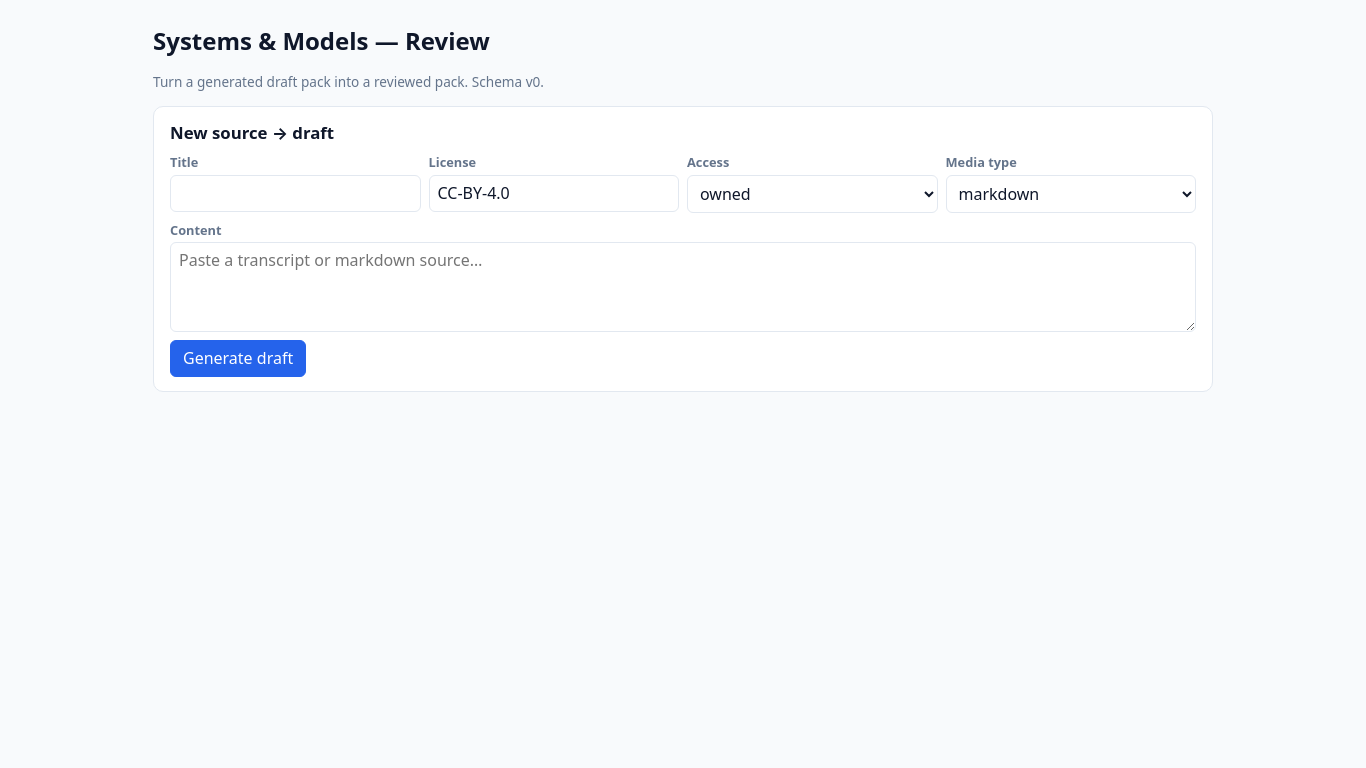
it: reviewed save › success (201) shows a confirmation banner
The image size is (1366, 768).
Type "Learning" into the field labelled "Title" at (295, 194), box [170,175,420,212]
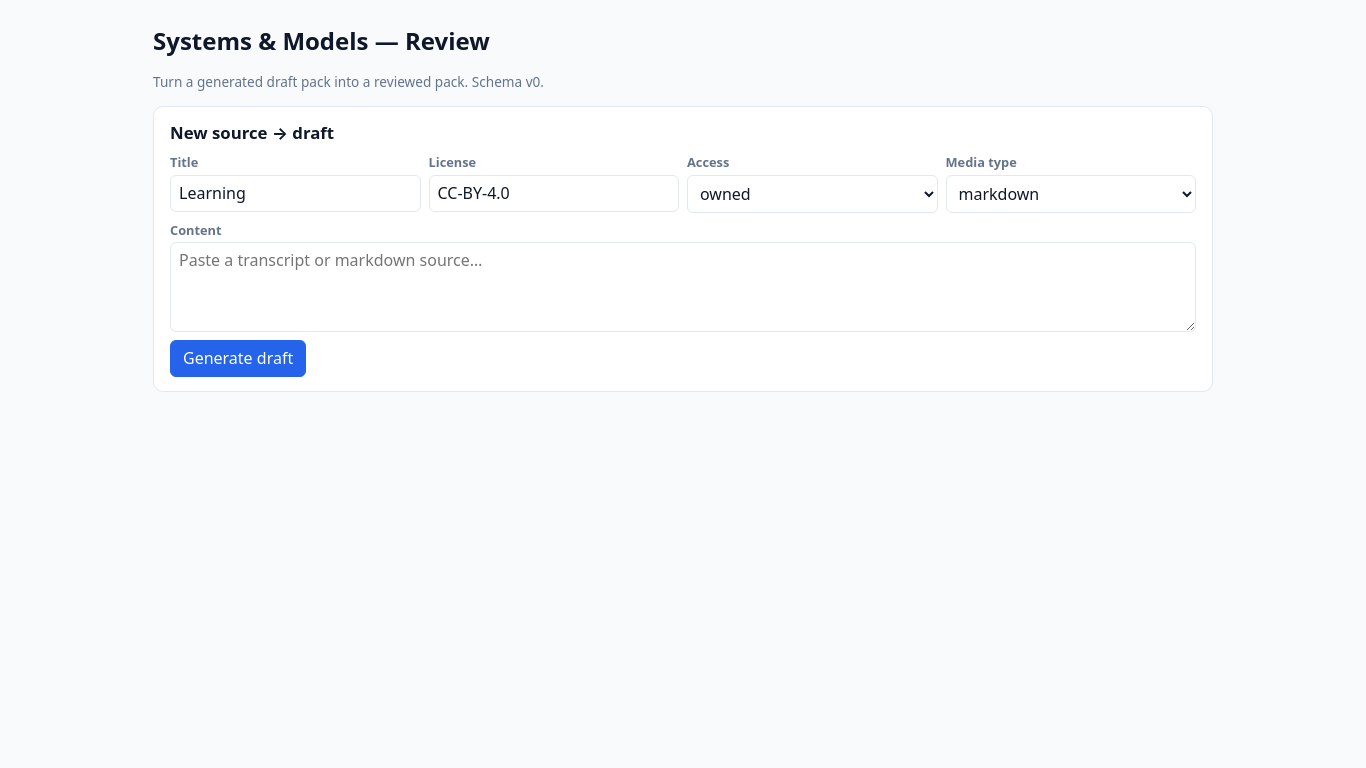
Type "spacing improves retention. memory decays over time." into the text box labelled "Content" at (683, 287), box [170,242,1196,332]
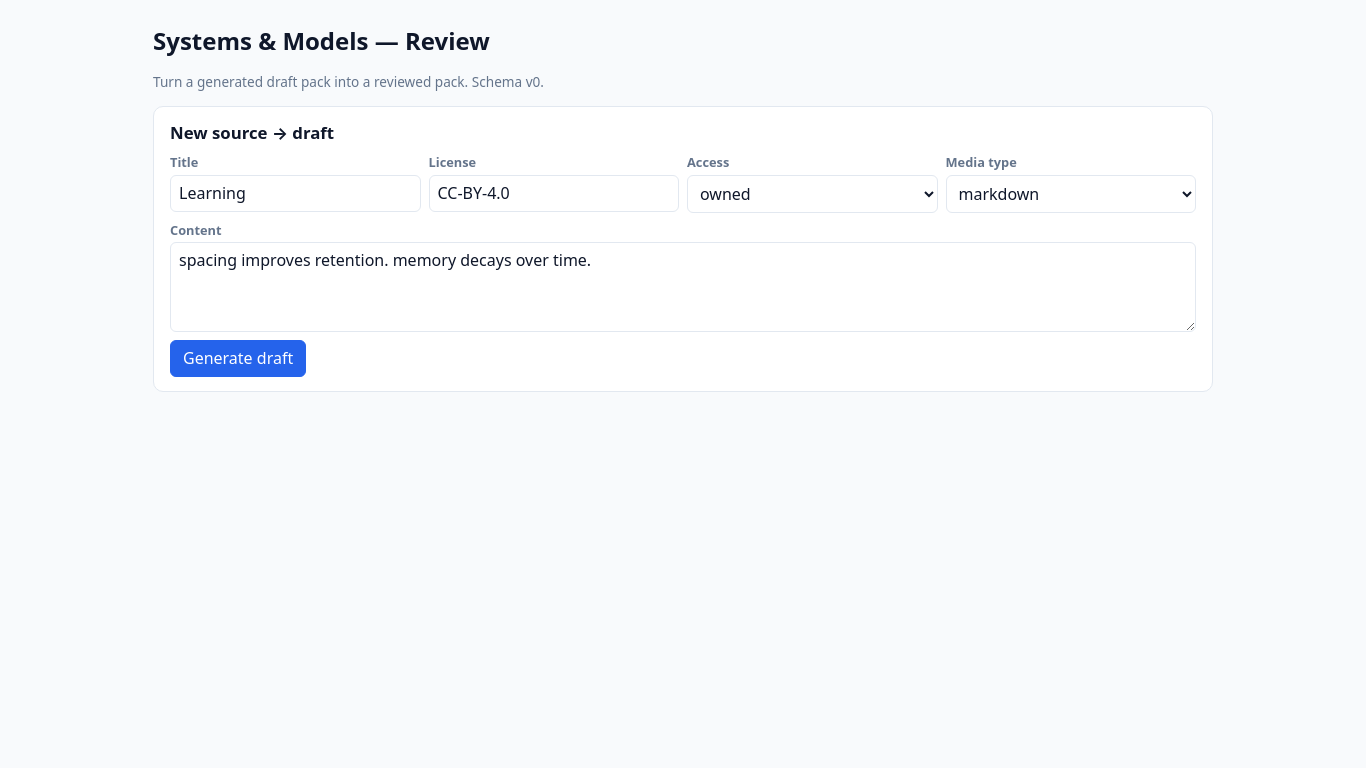
Click the button "Generate draft" at (238, 359), box [170,340,306,377]
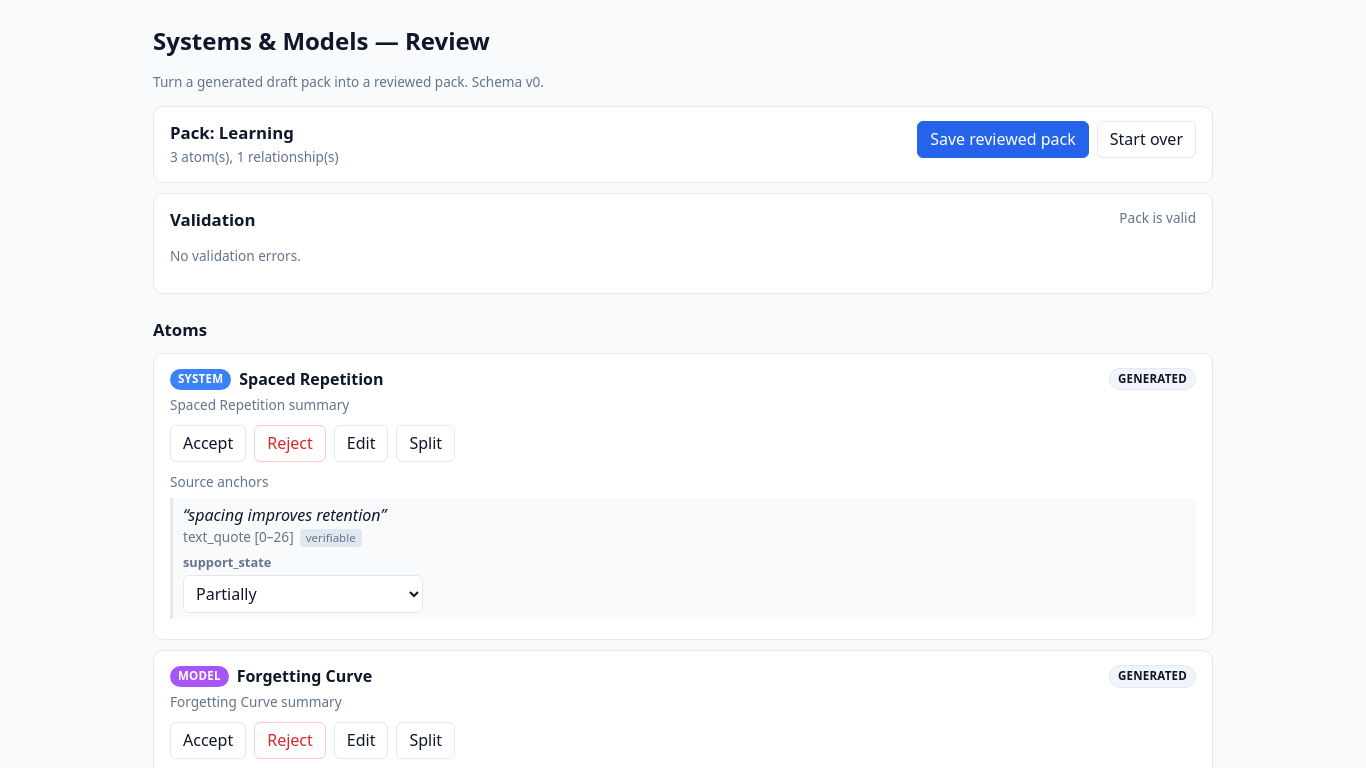
Check: the heading "Pack: Learning" is shown, box [170,121,294,144]
Click the button with test id "save-reviewed" at (1003, 139), box [917,121,1089,158]
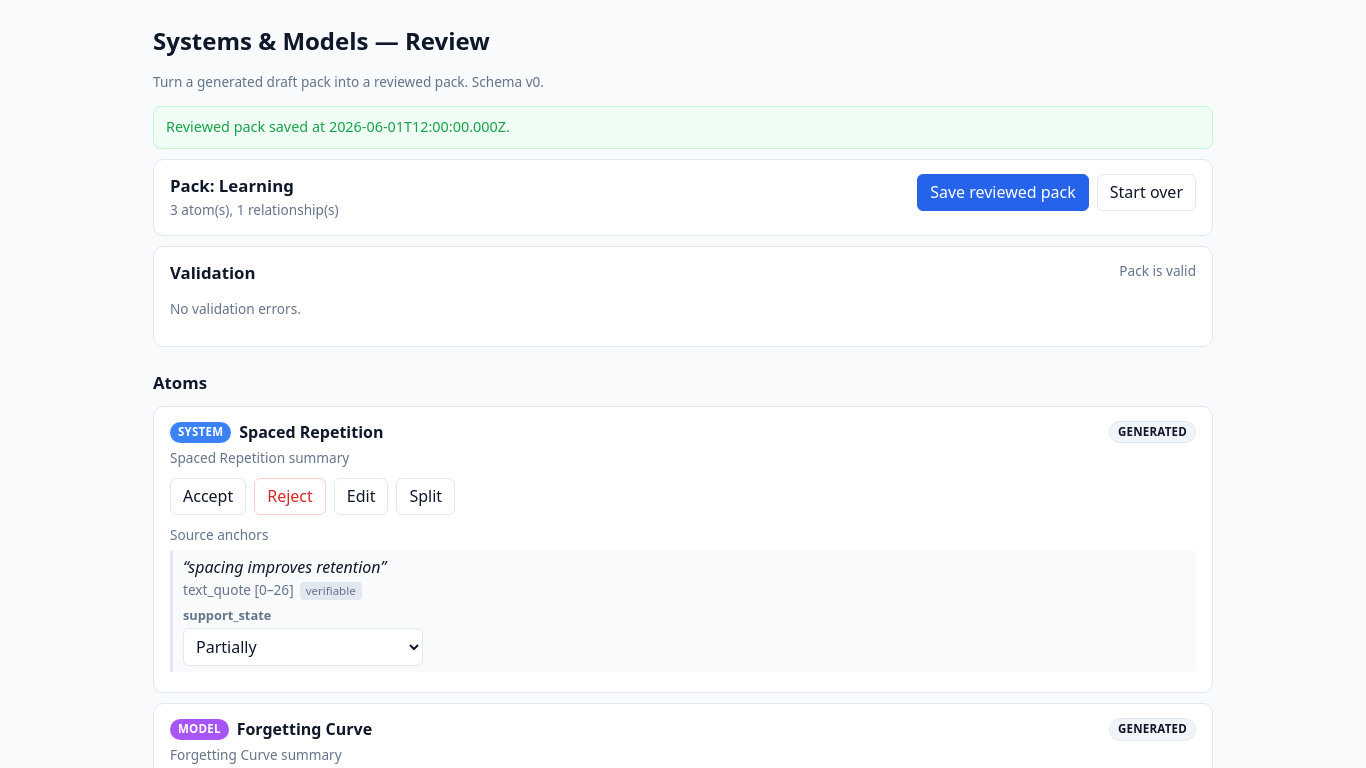
Check: the text "Reviewed pack saved at 2026-06-01T12:00:00.000Z." is shown, box [153,106,1213,149]
